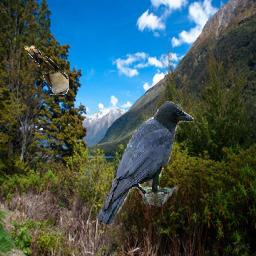Crow: (96, 102, 194, 229)
Cuckoo: (25, 45, 70, 95)
